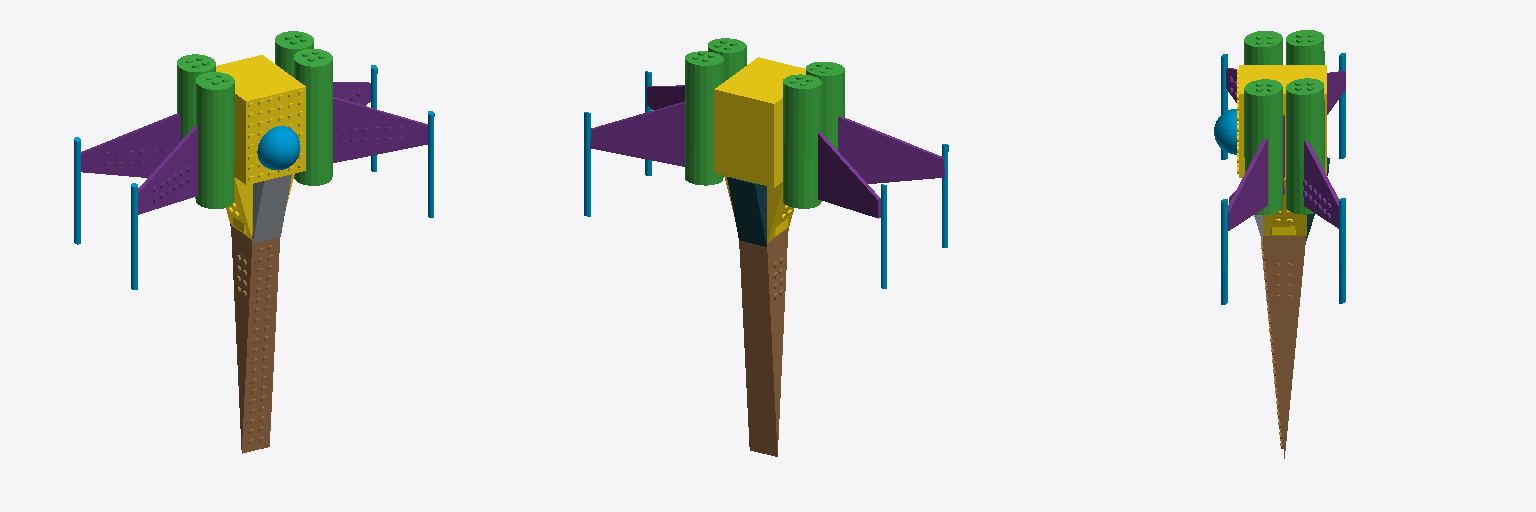
File: tinker.obj
The picture shows the model from 3 angles: view 1: azimuth 30°, elevation 25°; view 2: azimuth 150°, elevation 25°; view 3: azimuth 270°, elevation 25°; orthographic projection.
Parts seen in each view (by area): view 1: obj_0; view 2: obj_0; view 3: obj_0.
Part boxes in pixels (x1,y1,x2,y2): obj_0: (74,31,434,453); obj_0: (584,38,948,456); obj_0: (1214,30,1345,458).
Size of the model in its own units: 152 by 188 by 57.